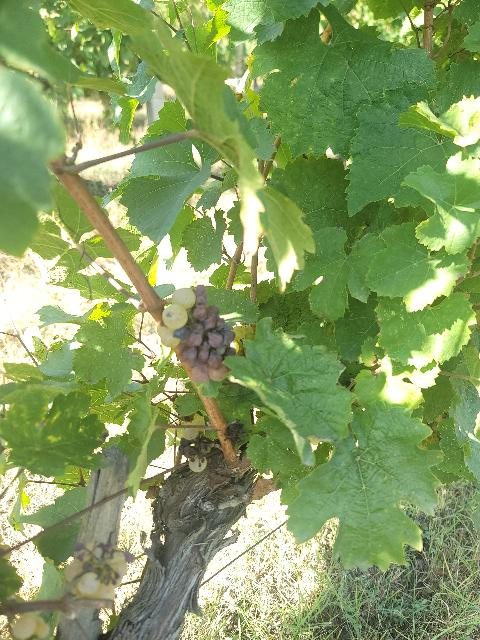grapes: (158, 285, 236, 384)
